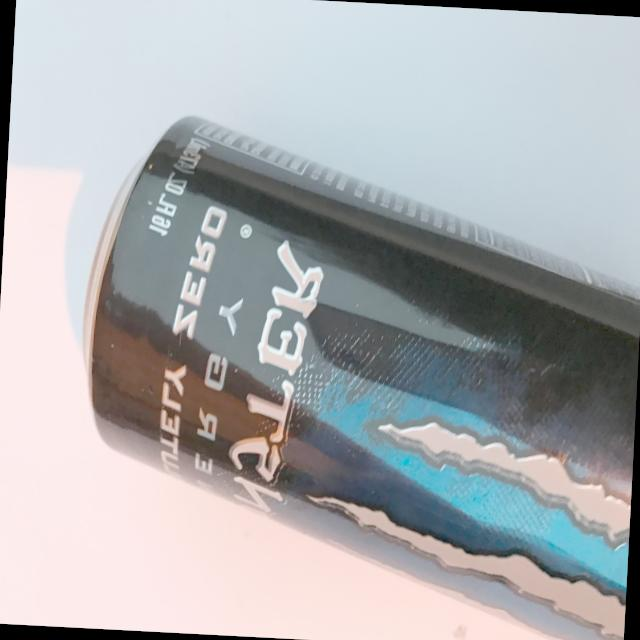Metal: (61, 93, 640, 640)
